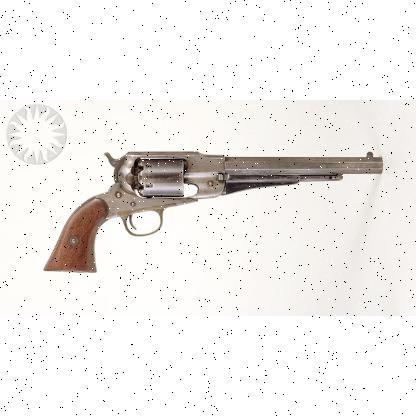gun: (43, 148, 382, 274)
